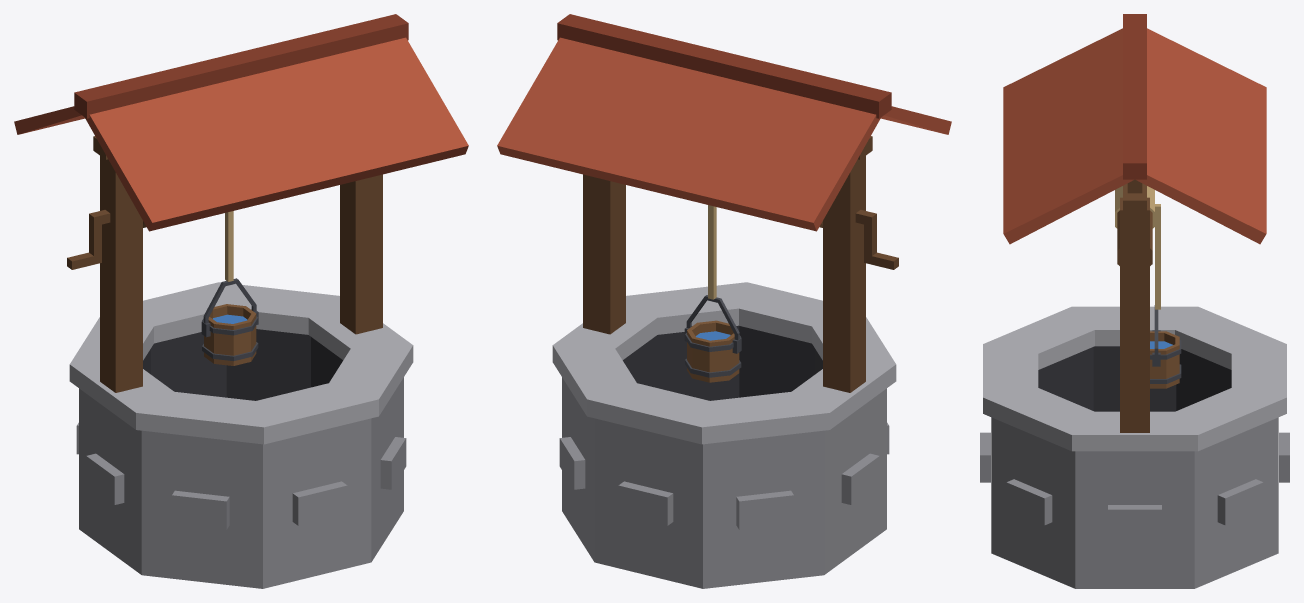
File: w1_wells.fbx
The picture shows the model from 3 angles, left to right: view 1: azimuth 30°, elevation 25°; view 2: azimuth 150°, elevation 25°; view 3: azimuth 270°, elevation 25°; orthographic projection. The views are drawn at different scales.
Visible parts, largest first — view 1: Well.Stone, Well.Roof, Well.Cap, Well.Wood, Well.Shaft, Well.Ridge, Well.Bucket, Well.Hoops, Well.Rope; view 2: Well.Stone, Well.Roof, Well.Cap, Well.Wood, Well.Ridge, Well.Shaft, Well.Bucket, Well.Hoops, Well.Rope; view 3: Well.Stone, Well.Roof, Well.Cap, Well.Wood, Well.Shaft, Well.Ridge, Well.Bucket, Well.Rope, Well.Hoops.
Part boxes in pixels (<box>): Well.Stone: <box>76,377,406,588</box>; Well.Roof: <box>14,37,468,231</box>; Well.Cap: <box>69,282,413,444</box>; Well.Wood: <box>67,136,382,392</box>; Well.Shaft: <box>143,329,342,400</box>; Well.Ridge: <box>74,14,408,118</box>; Well.Bucket: <box>204,304,256,365</box>; Well.Hoops: <box>201,278,258,361</box>; Well.Rope: <box>225,211,233,281</box>; Well.Stone: <box>559,377,889,588</box>; Well.Roof: <box>497,37,951,231</box>; Well.Cap: <box>552,282,896,444</box>; Well.Wood: <box>583,136,898,392</box>; Well.Ridge: <box>557,14,891,118</box>; Well.Shaft: <box>623,325,822,400</box>; Well.Bucket: <box>687,320,739,382</box>; Well.Hoops: <box>684,295,741,377</box>; Well.Rope: <box>708,205,716,299</box>; Well.Stone: <box>980,417,1289,588</box>; Well.Roof: <box>1003,28,1266,244</box>; Well.Cap: <box>983,306,1286,451</box>; Well.Wood: <box>1117,179,1152,432</box>; Well.Shaft: <box>1038,346,1231,411</box>; Well.Ridge: <box>1123,14,1146,179</box>; Well.Bucket: <box>1150,331,1179,388</box>; Well.Rope: <box>1115,186,1160,309</box>; Well.Hoops: <box>1150,305,1181,383</box>.
Size of the model in its own units: 6.1 by 8.1 by 5.17.
